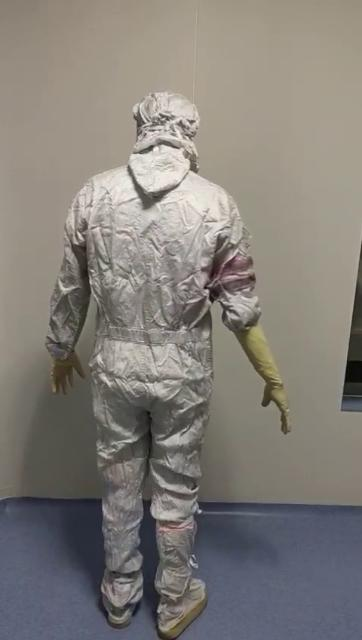boot_not_secured: (66, 520, 150, 638)
boot_secured: (146, 498, 223, 640)
gloves_fitted_securely: (228, 302, 322, 436)
gloves_not_fitted_securely: (34, 338, 92, 426)
headgear_not_secured_backside: (114, 80, 236, 206)
